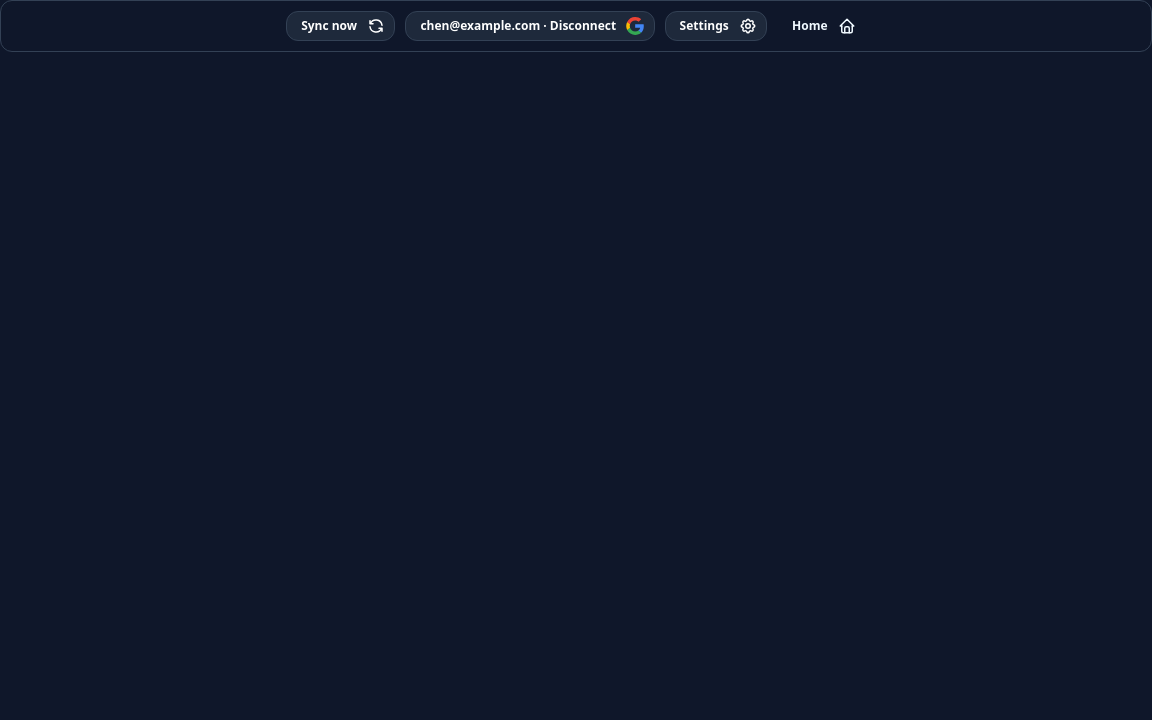
Test: shows a success toast once the Sync now button completes a sync
What coordinates should you click on to do the following:
click the button "Sync now"
I would click on:
 (341, 26)
Its box is [286,11,395,41].
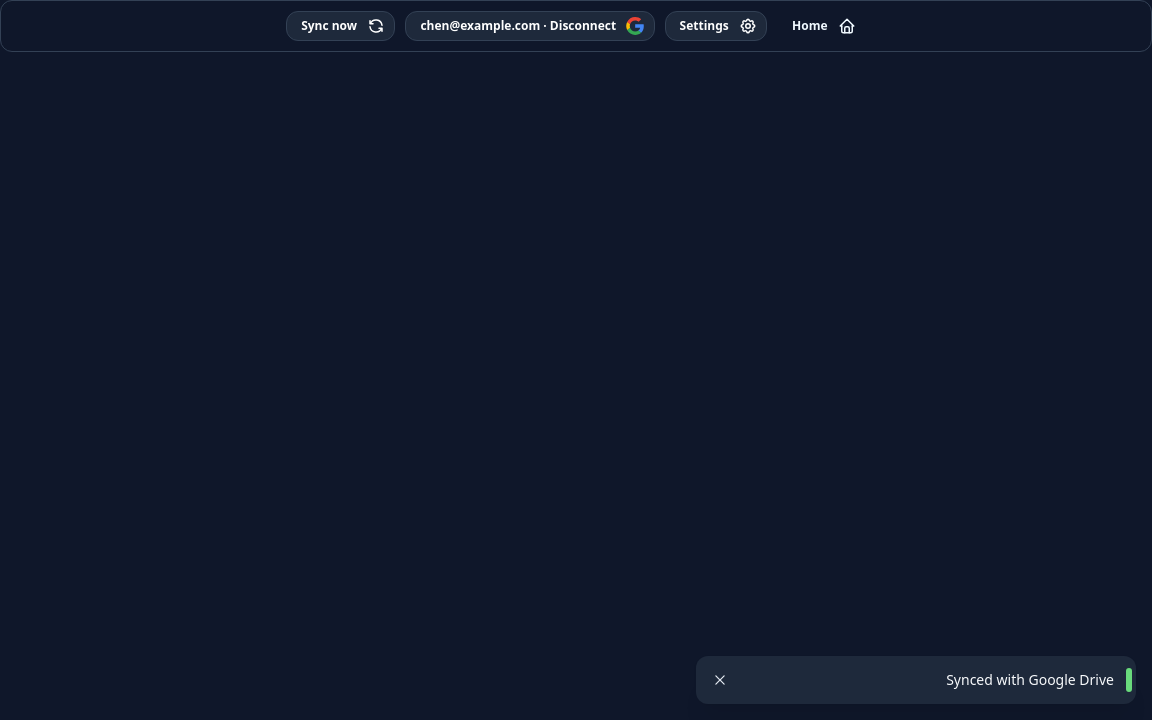
Now the text "Synced with Google Drive" is shown, box [946,670,1114,689]
